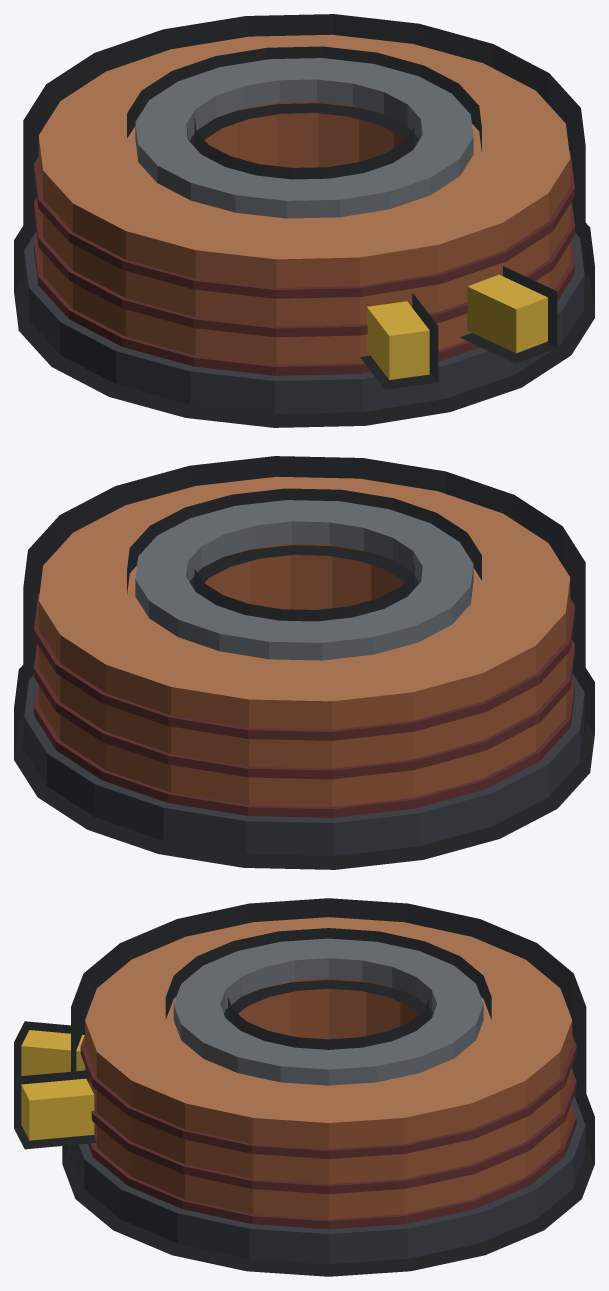
File: SM_Mat_Coil.glb
3 renders of one model, top to bottom at view 1: azimuth 30°, elevation 25°; view 2: azimuth 150°, elevation 25°; view 3: azimuth 270°, elevation 25°, orthographic. The views are drawn at different scales.
Parts seen in each view (by area): view 1: SM_Mat_Coil, SM_Mat_Coil_Outline; view 2: SM_Mat_Coil, SM_Mat_Coil_Outline; view 3: SM_Mat_Coil, SM_Mat_Coil_Outline.
Part boxes in pixels (left/top/right/bottom): SM_Mat_Coil: left=24, top=34, right=584, bottom=413; SM_Mat_Coil_Outline: left=14, top=14, right=594, bottom=427; SM_Mat_Coil: left=24, top=476, right=584, bottom=855; SM_Mat_Coil_Outline: left=14, top=456, right=594, bottom=869; SM_Mat_Coil: left=21, top=917, right=585, bottom=1263; SM_Mat_Coil_Outline: left=14, top=898, right=594, bottom=1276.
Size of the model in its own units: 0.481 by 0.1668 by 0.5247.
Materials: 2 (1 with a texture image).
